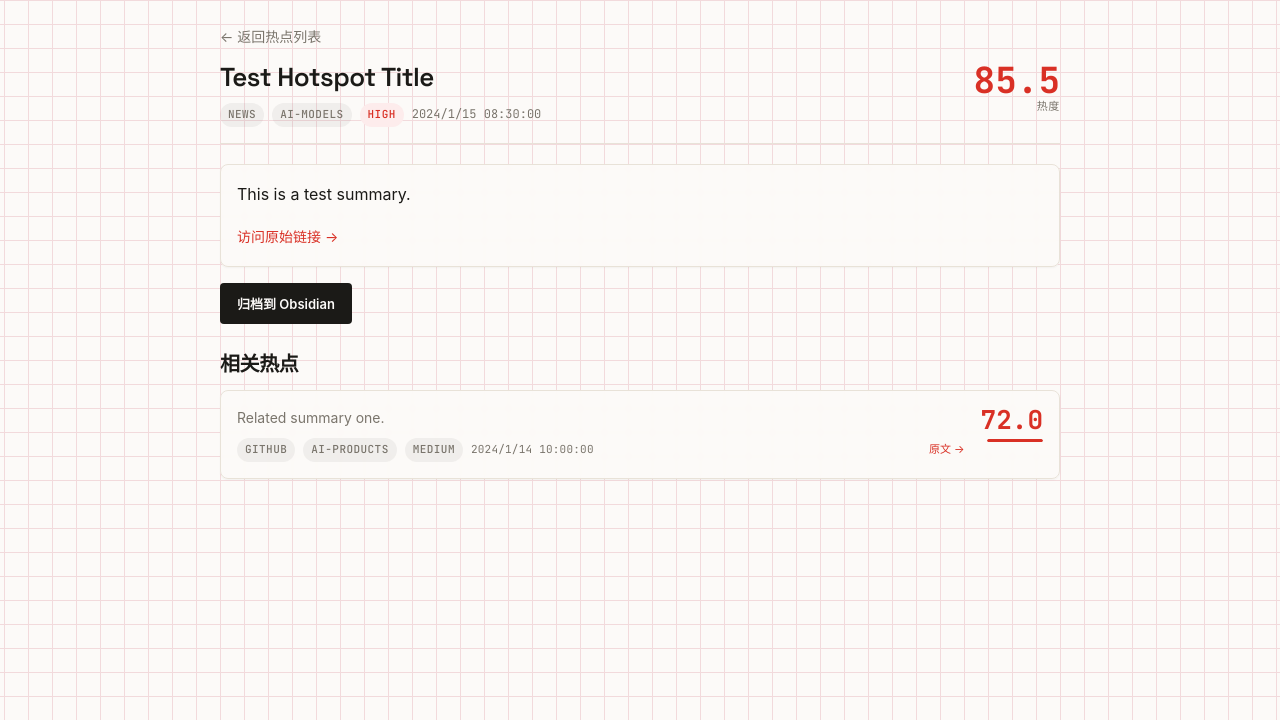
Test case: HotspotDetailView › shows error state when archive fails
Step 1. Click the button "归档到 Obsidian" → click(286, 303), box [220, 283, 352, 324]
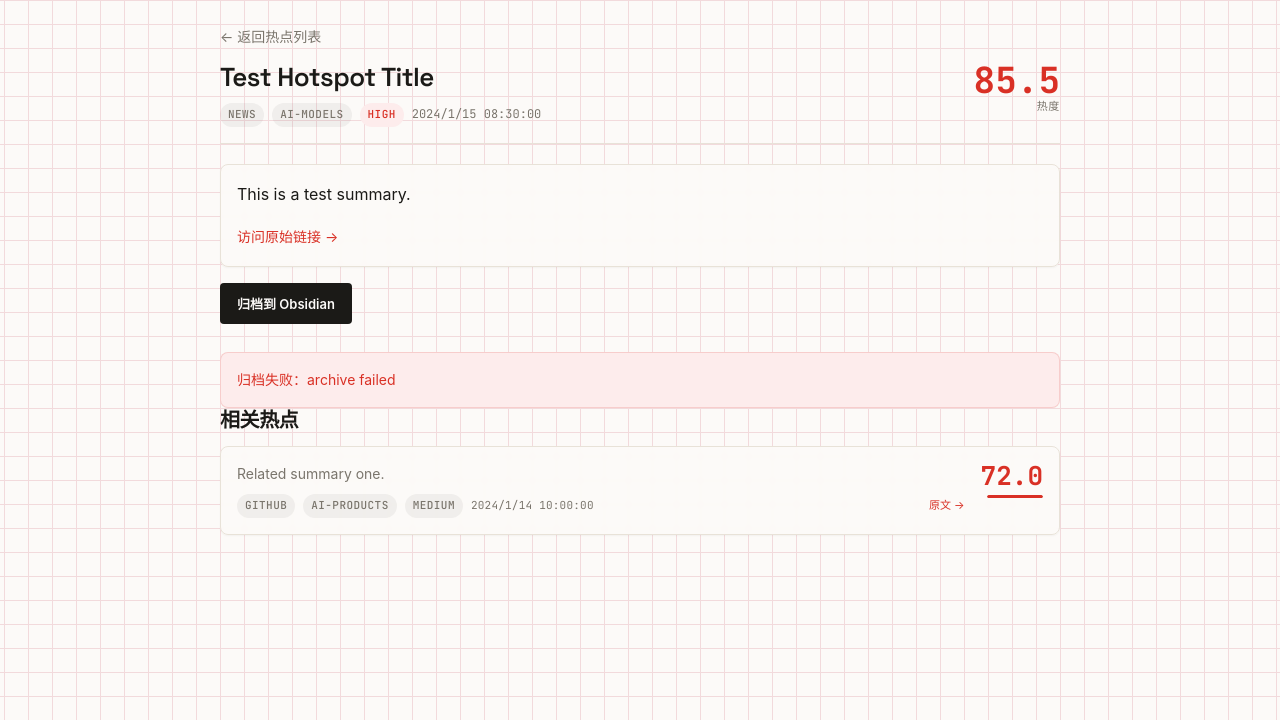
Now the message "归档失败：archive failed" is shown, box [220, 352, 1060, 408]
Now the message with class "state-error" shows "archive failed", box [237, 371, 396, 388]
